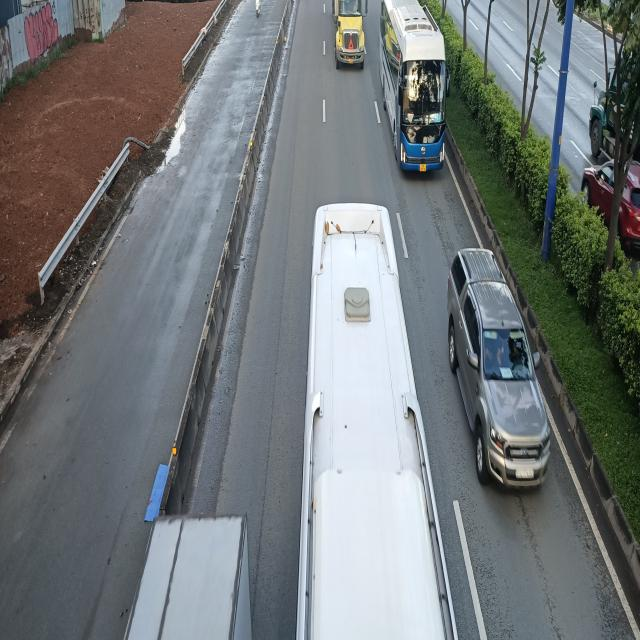car: (448, 241, 551, 492)
coach: (295, 202, 445, 640), (380, 1, 450, 172)
container: (332, 1, 368, 70)
